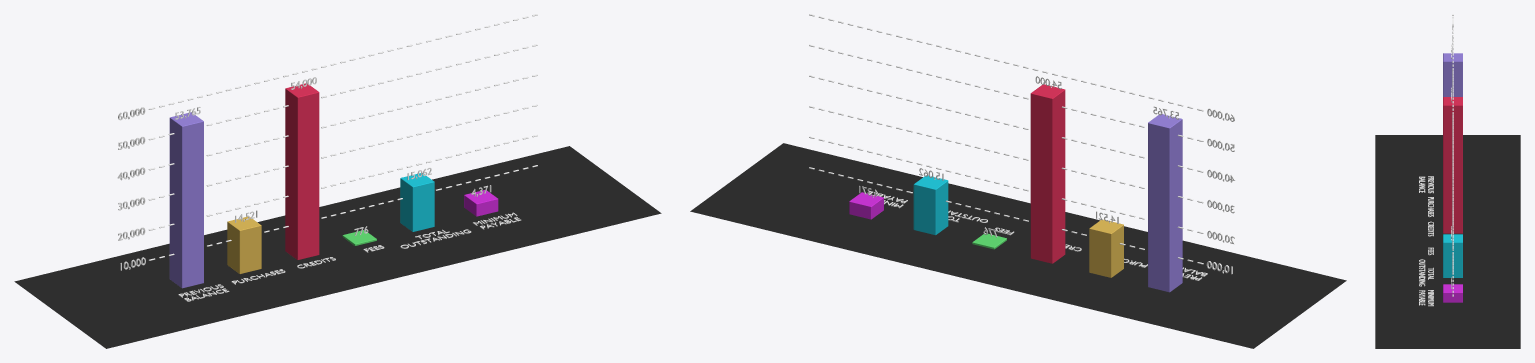
The model's file is graph5.fbx.
3 views of the same model, side by side, from view 1: azimuth 30°, elevation 25°; view 2: azimuth 150°, elevation 25°; view 3: azimuth 270°, elevation 25° (orthographic). The views are drawn at different scales.
Visible parts, largest first — view 1: Plane.001, Cube.002_Cube.000, Cube_Cube.000, Cube.008_Cube.000, Cube.004_Cube.000, Cube.001_Cube.000, AMOUNT_Text.000, Cube.005_Cube.000, VALUES_Text.000; view 2: Plane.001, Cube.002_Cube.000, Cube_Cube.000, Cube.008_Cube.000, Cube.004_Cube.000, Cube.001_Cube.000, AMOUNT_Text.000, Cube.005_Cube.000, VALUES_Text.000; view 3: Plane.001, Cube.002_Cube.000, Cube_Cube.000, Cube.004_Cube.000, Cube.008_Cube.000, Cube.005_Cube.000, TOTAL_OUSTANDING_Text.000, previous_balance_Text.001, MINIMUM_PAYABLE_Text.000.
Part boxes in pixels (x1,y1,x2,y2): Plane.001: (14, 146, 661, 348); Cube.002_Cube.000: (285, 83, 319, 259); Cube_Cube.000: (169, 112, 203, 288); Cube.008_Cube.000: (148, 14, 537, 260); Cube.004_Cube.000: (400, 173, 434, 231); Cube.001_Cube.000: (227, 216, 261, 273); AMOUNT_Text.000: (117, 107, 145, 270); Cube.005_Cube.000: (464, 190, 498, 216); VALUES_Text.000: (175, 77, 491, 235); Plane.001: (690, 143, 1346, 348); Cube.002_Cube.000: (1030, 84, 1065, 263); Cube_Cube.000: (1148, 113, 1182, 292); Cube.008_Cube.000: (809, 14, 1203, 264); Cube.004_Cube.000: (913, 175, 948, 235); Cube.001_Cube.000: (1089, 219, 1123, 277); AMOUNT_Text.000: (1206, 108, 1235, 274); Cube.005_Cube.000: (849, 192, 883, 219); VALUES_Text.000: (859, 76, 1179, 237); Plane.001: (1375, 135, 1520, 348); Cube.002_Cube.000: (1443, 97, 1462, 233); Cube_Cube.000: (1443, 53, 1462, 96); Cube.004_Cube.000: (1443, 234, 1462, 277); Cube.008_Cube.000: (1452, 27, 1453, 296); Cube.005_Cube.000: (1443, 284, 1462, 302); TOTAL_OUSTANDING_Text.000: (1419, 259, 1433, 286); previous_balance_Text.001: (1419, 176, 1433, 193); MINIMUM_PAYABLE_Text.000: (1419, 290, 1433, 306).
Size of the model in its own units: 19263 by 6131 by 5534.
